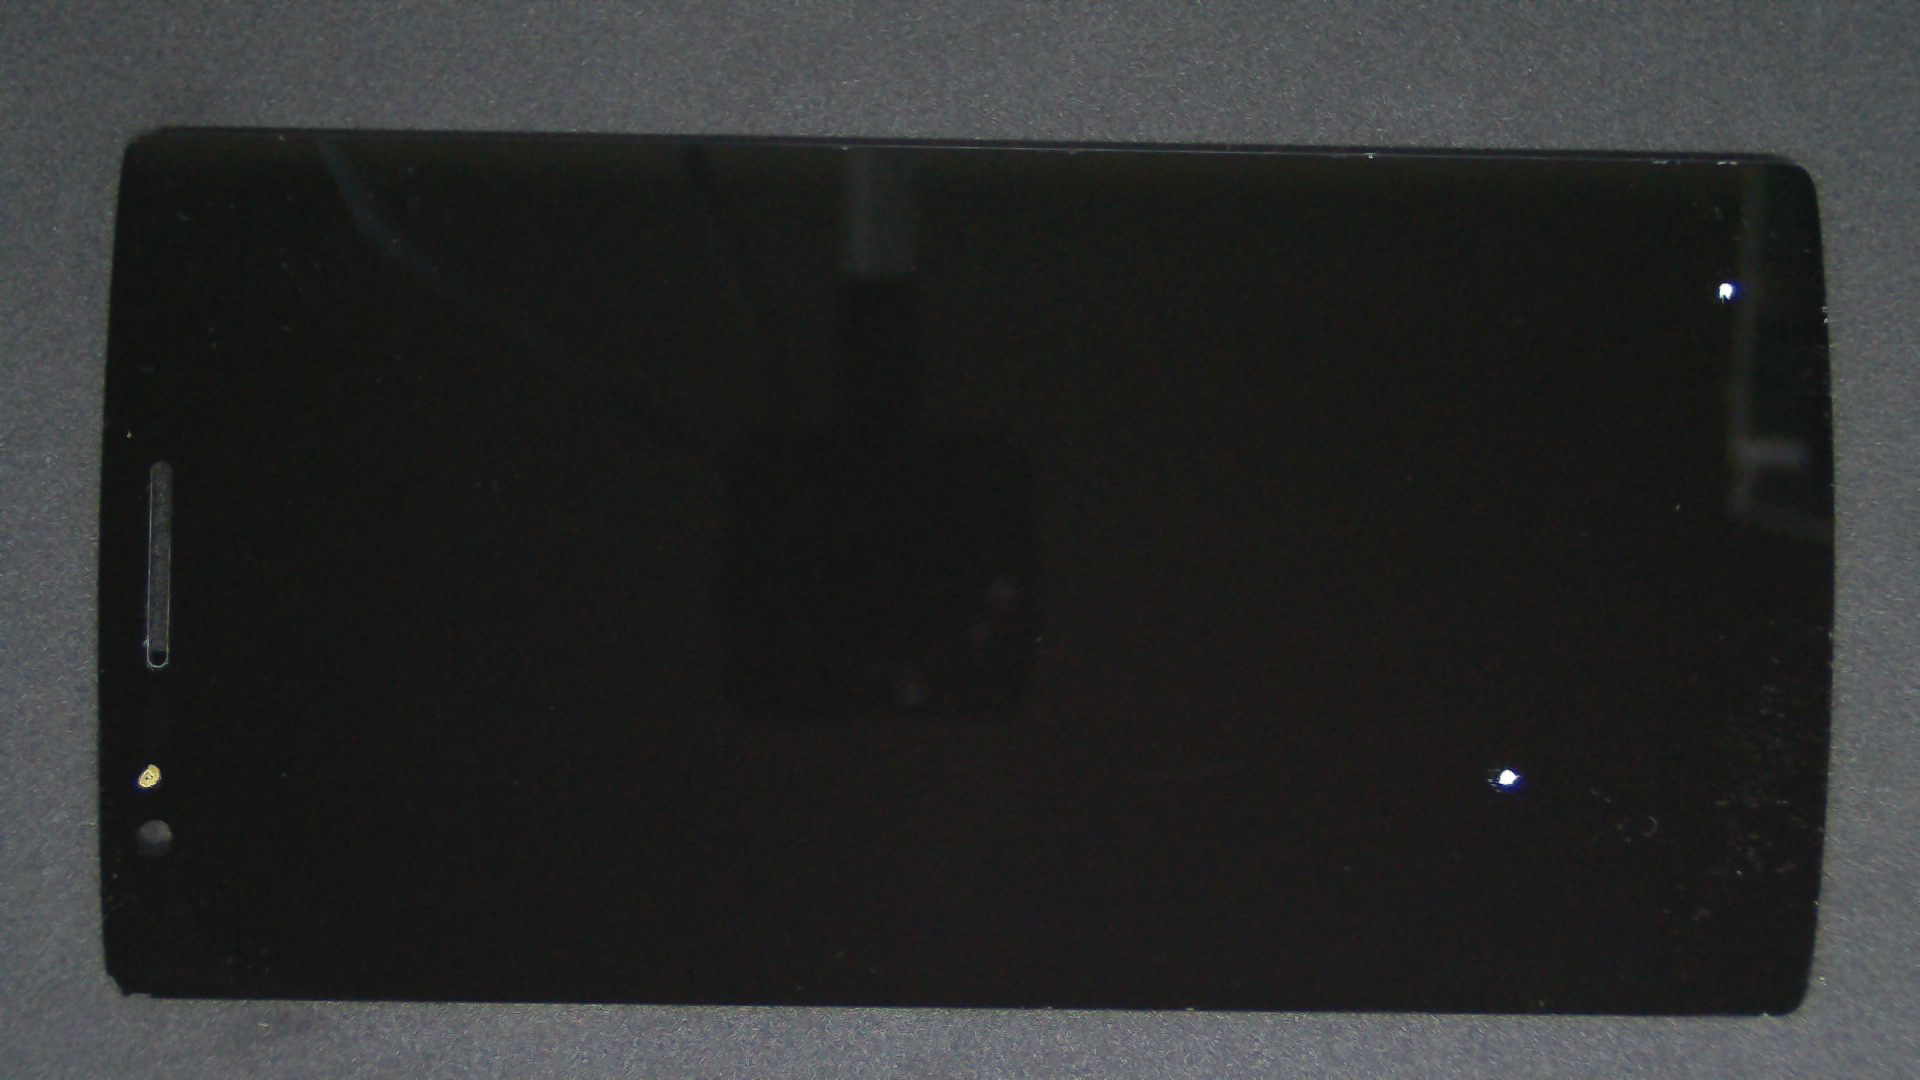defect: (135, 764, 162, 789), (1494, 767, 1522, 786), (1717, 281, 1734, 305)
